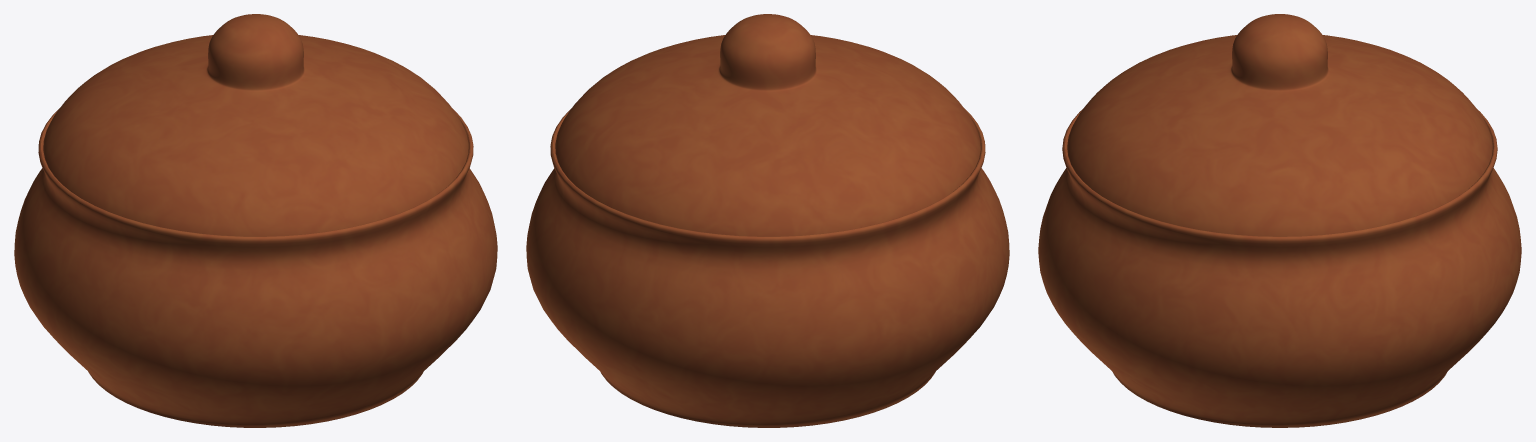
The model's file is clay_pot.glb.
3 views of the same model, side by side, from view 1: azimuth 30°, elevation 25°; view 2: azimuth 150°, elevation 25°; view 3: azimuth 270°, elevation 25° (orthographic).
Parts seen in each view (by area): view 1: Plane_0, Plane.001_1; view 2: Plane_0, Plane.001_1; view 3: Plane_0, Plane.001_1.
Boxes of the visible parts, x1=… form: Plane_0: x1=14, y1=108, x2=497, y2=427; Plane.001_1: x1=43, y1=14, x2=468, y2=236; Plane_0: x1=526, y1=108, x2=1009, y2=427; Plane.001_1: x1=555, y1=14, x2=980, y2=236; Plane_0: x1=1038, y1=109, x2=1521, y2=427; Plane.001_1: x1=1067, y1=14, x2=1492, y2=236.
Bounding box in the file's own units: 0.2045 × 0.1574 × 0.2045.
Materials: 1 (1 with a texture image).
